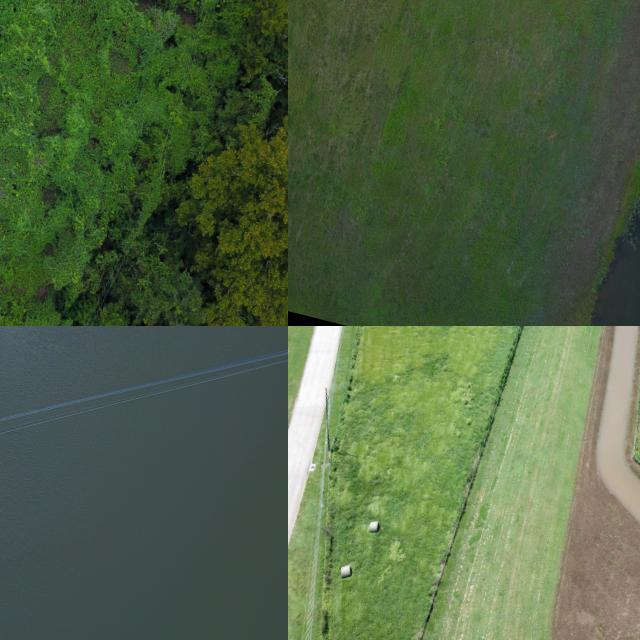fire: (0, 362, 288, 640), (596, 326, 640, 523)
